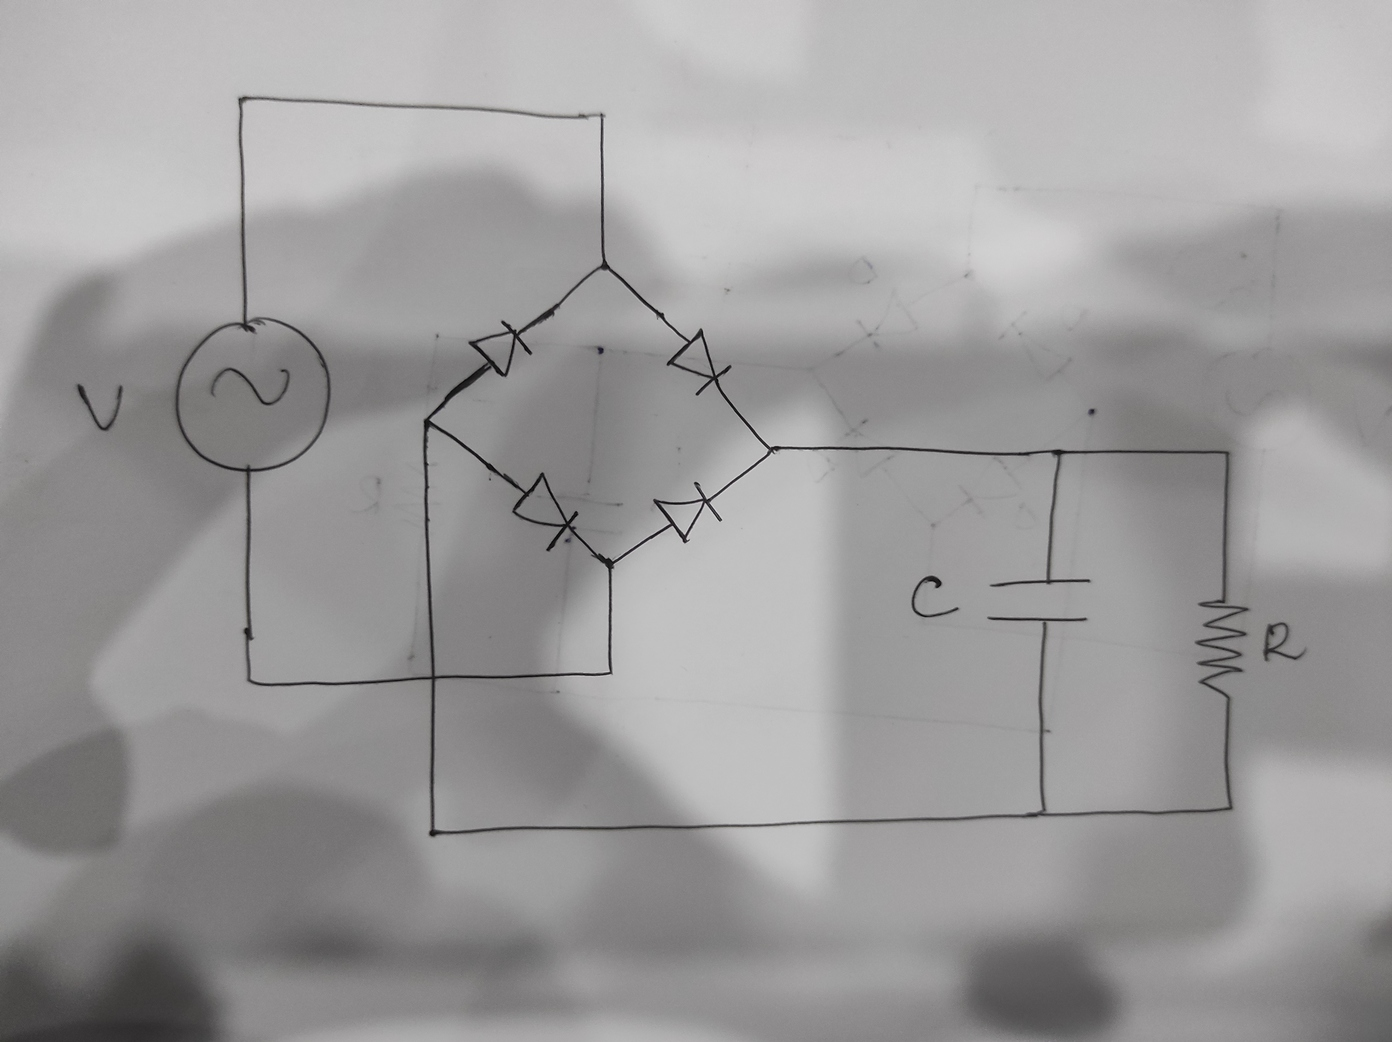capacitor.unpolarized: (981, 572, 1098, 628)
crossover: (424, 667, 441, 688)
diode: (508, 468, 581, 552), (662, 325, 733, 397), (651, 479, 724, 545), (464, 316, 535, 379)
junction: (581, 101, 613, 136), (590, 254, 619, 280), (1026, 803, 1058, 824), (418, 409, 443, 435), (759, 440, 784, 465), (1218, 794, 1242, 818), (1214, 441, 1236, 465), (422, 821, 445, 843), (232, 90, 254, 112), (239, 669, 260, 690), (598, 555, 619, 574), (1049, 445, 1068, 463), (601, 664, 619, 680)
resistor: (1193, 588, 1251, 701)
text: (72, 379, 127, 435), (909, 571, 962, 620), (1260, 618, 1310, 667)
voltage.dc_ac: (169, 311, 338, 476)
